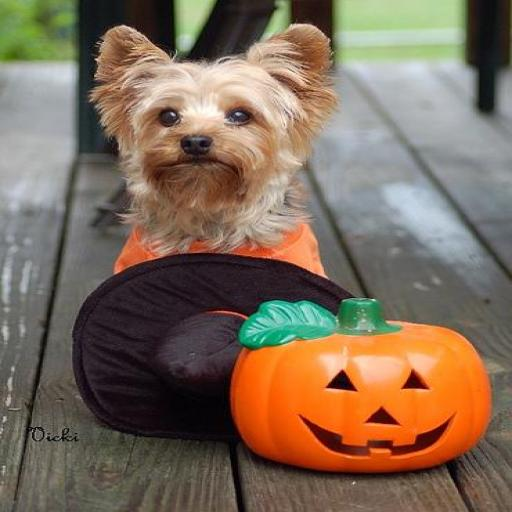dog_face: (90, 20, 327, 213)
